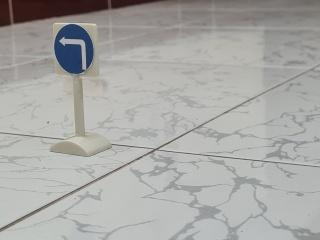left: (50, 19, 113, 85)
